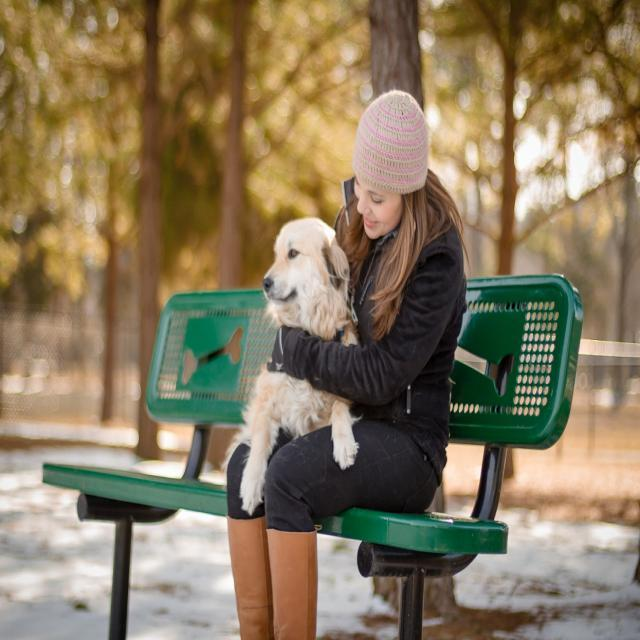Dogs: (232, 208, 370, 518)
